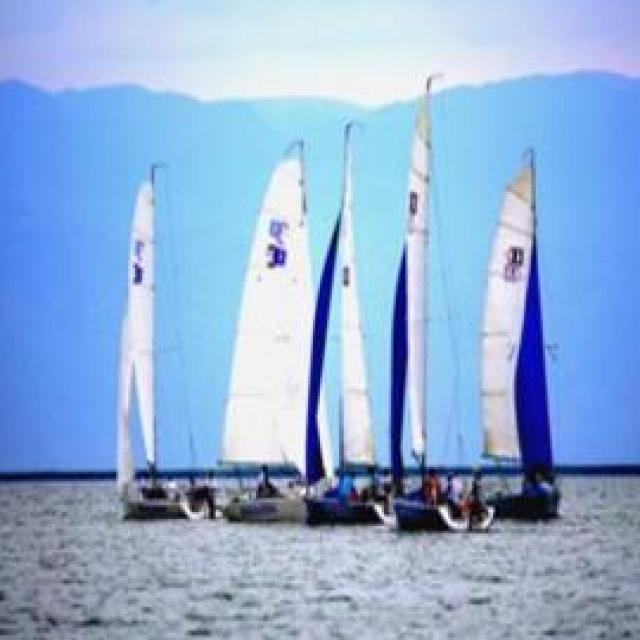sailboat: (206, 139, 321, 522), (382, 68, 468, 536), (106, 165, 212, 516), (463, 141, 559, 526), (297, 110, 385, 528)
